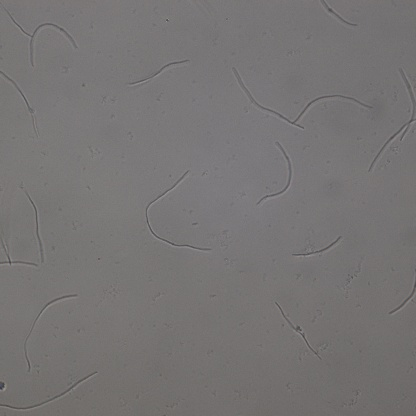Sensitive: (145, 170, 211, 252), (1, 5, 78, 67), (23, 292, 77, 376), (234, 68, 303, 131), (1, 371, 97, 415), (276, 302, 321, 358), (1, 71, 37, 135), (370, 120, 416, 170), (295, 93, 373, 122), (258, 142, 293, 203), (126, 58, 190, 86), (20, 185, 42, 262), (398, 68, 416, 144), (293, 234, 343, 258), (321, 1, 357, 27), (389, 281, 416, 314)
